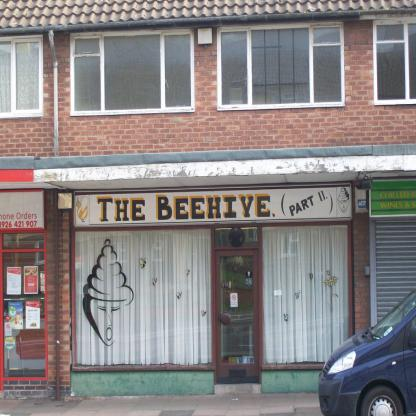Car: (318, 287, 415, 415)
